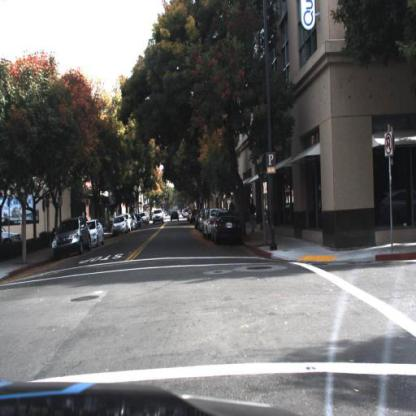car: (50, 214, 91, 259), (211, 208, 248, 252), (86, 219, 107, 248), (1, 224, 22, 252), (205, 211, 217, 242), (113, 214, 129, 235), (152, 208, 166, 226), (153, 209, 165, 225)
pedestrian: (248, 199, 259, 239), (228, 197, 238, 214)
